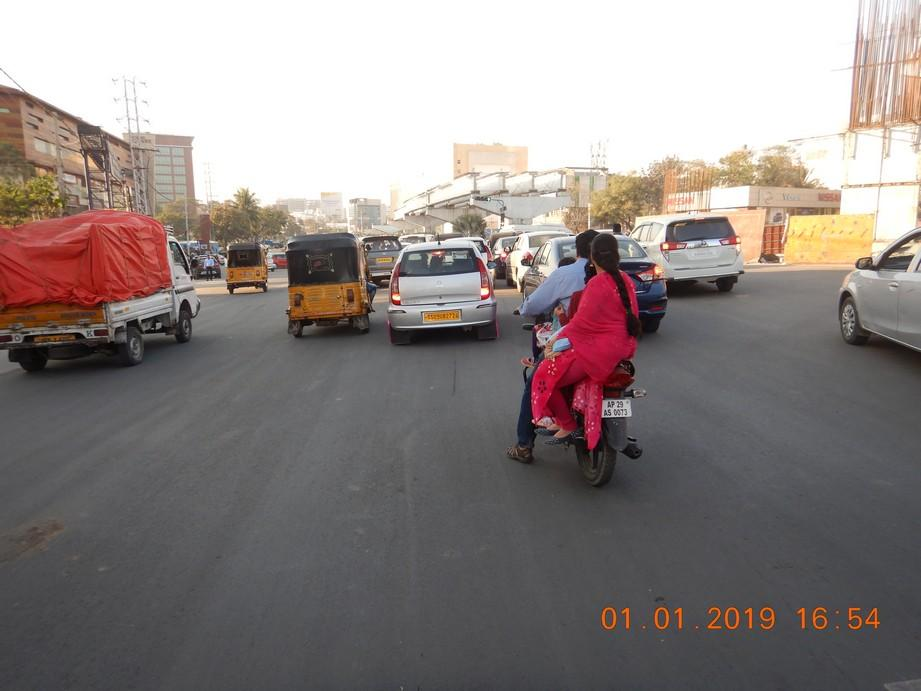plate: (602, 398, 629, 417)
